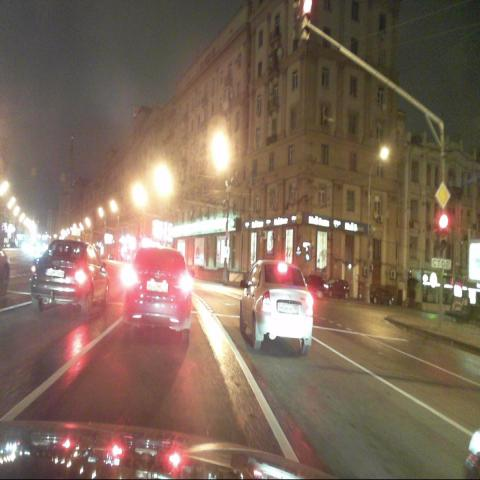6_16: (432, 258, 452, 269)
